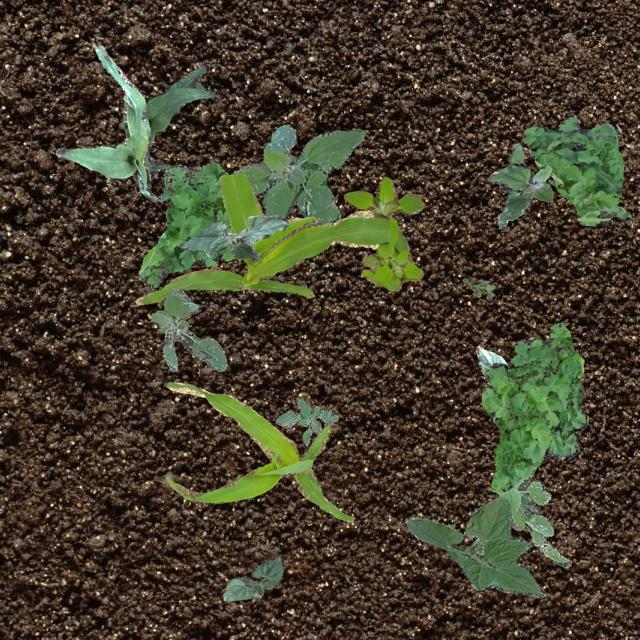crop: (134, 172, 390, 304), (165, 380, 353, 520), (404, 496, 544, 596), (54, 44, 150, 188), (120, 65, 214, 202), (180, 213, 288, 260), (222, 558, 282, 600), (476, 344, 506, 374)
weed: (480, 322, 588, 494), (230, 123, 364, 224), (138, 162, 234, 288), (524, 116, 630, 224), (472, 466, 570, 566), (342, 176, 422, 290), (150, 288, 226, 370), (486, 142, 552, 228), (274, 398, 338, 444), (462, 278, 494, 296)
